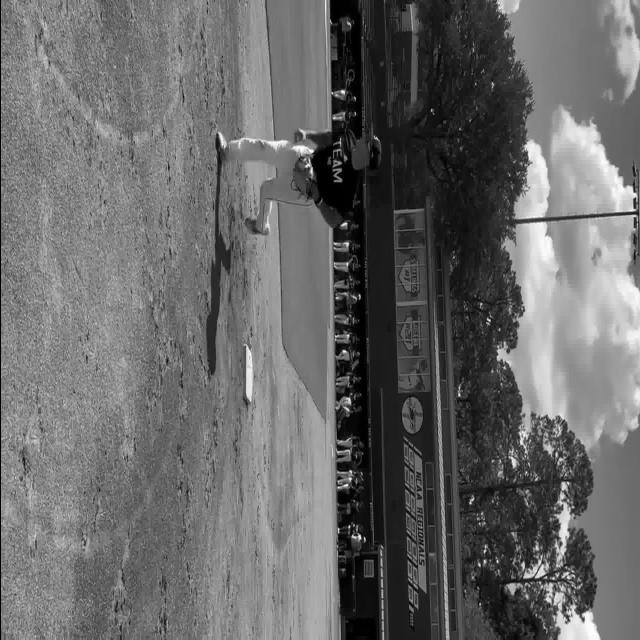base: (242, 345, 252, 405)
baseball_glove: (291, 156, 321, 204)
shoe: (215, 131, 229, 164), (244, 218, 269, 236)
